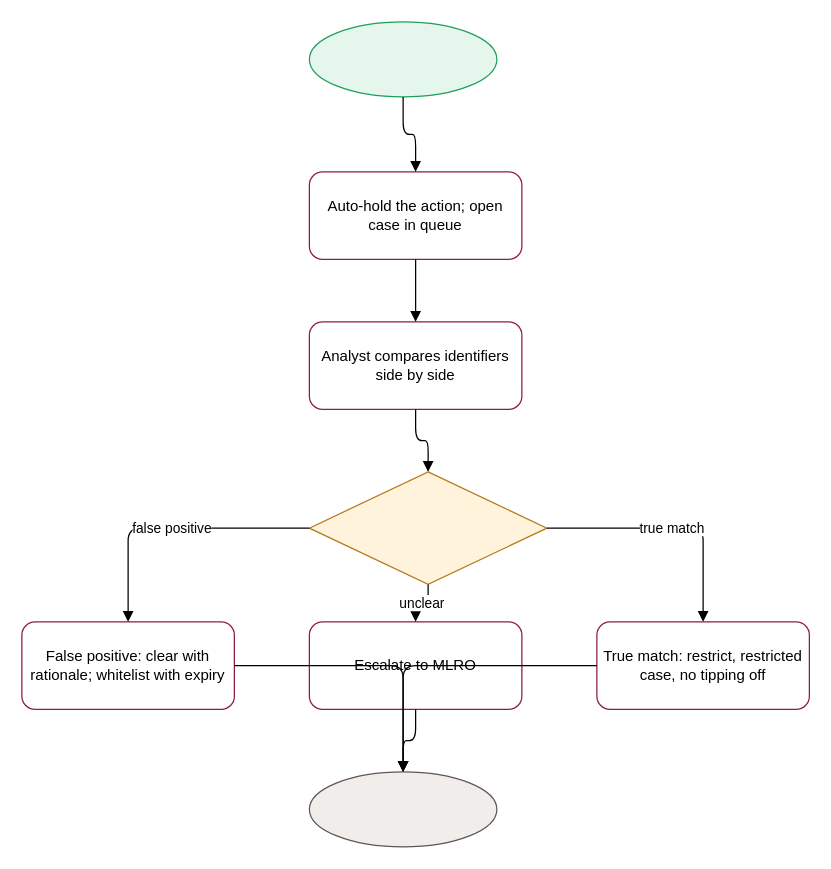
The diagram is 831 pixels wide and 869 high, and some of its shapes have lost their labels. Each missing label, with the centre of its shape:
Decision: point (427, 527)
Decision audited: point (402, 809)
Screening produces a hit: point (402, 59)
